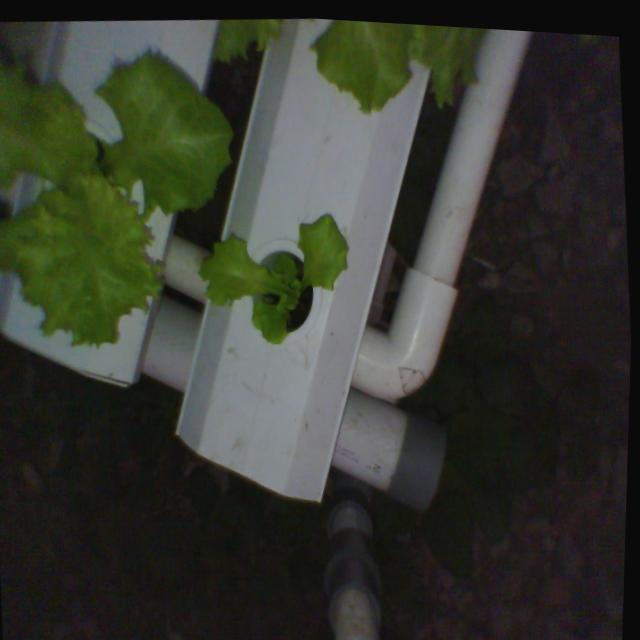FN: (0, 30, 254, 367), (191, 198, 362, 365)
